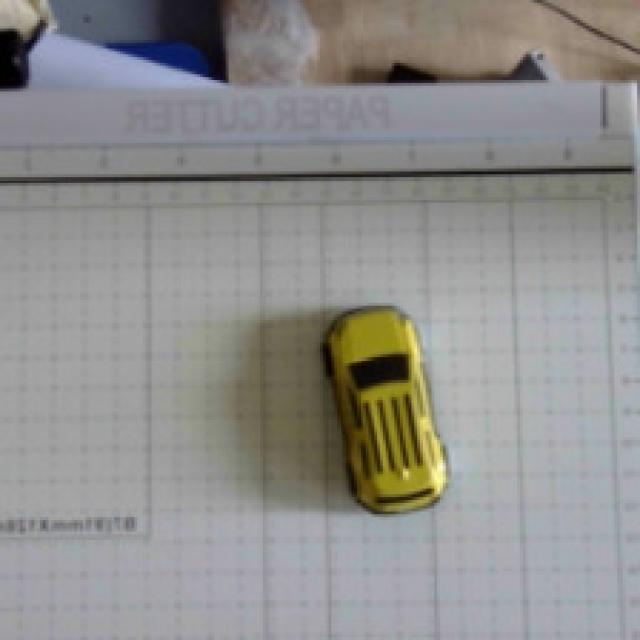Yellow Car: (260, 266, 499, 557)
